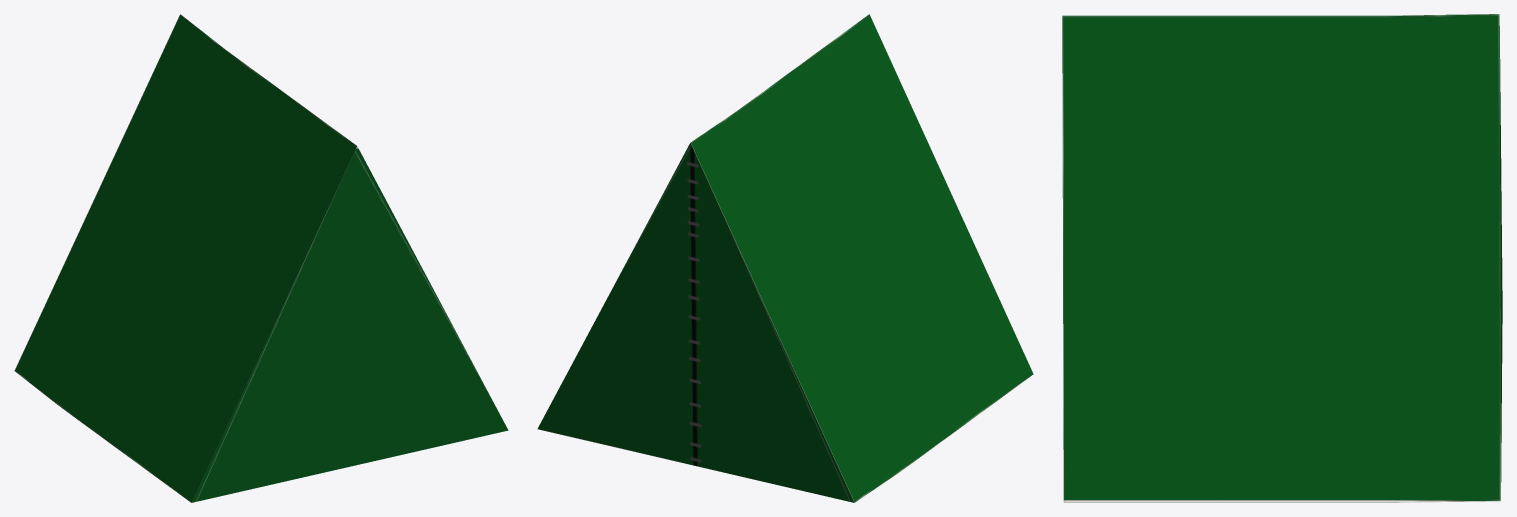
File: sm_Tent1.fbx
3 views of the same model, side by side, from view 1: azimuth 30°, elevation 25°; view 2: azimuth 150°, elevation 25°; view 3: azimuth 270°, elevation 25° (orthographic). The views are drawn at different scales.
Parts seen in each view (by area): view 1: sm_tent1; view 2: sm_tent1; view 3: sm_tent1.
Boxes of the visible parts, <box> form: sm_tent1: <box>14,14,508,502</box>; sm_tent1: <box>537,14,1033,502</box>; sm_tent1: <box>1062,14,1502,502</box>.
Size of the model in its own units: 3.07 by 2.99 by 3.
Materials: 1 (1 with a texture image).
